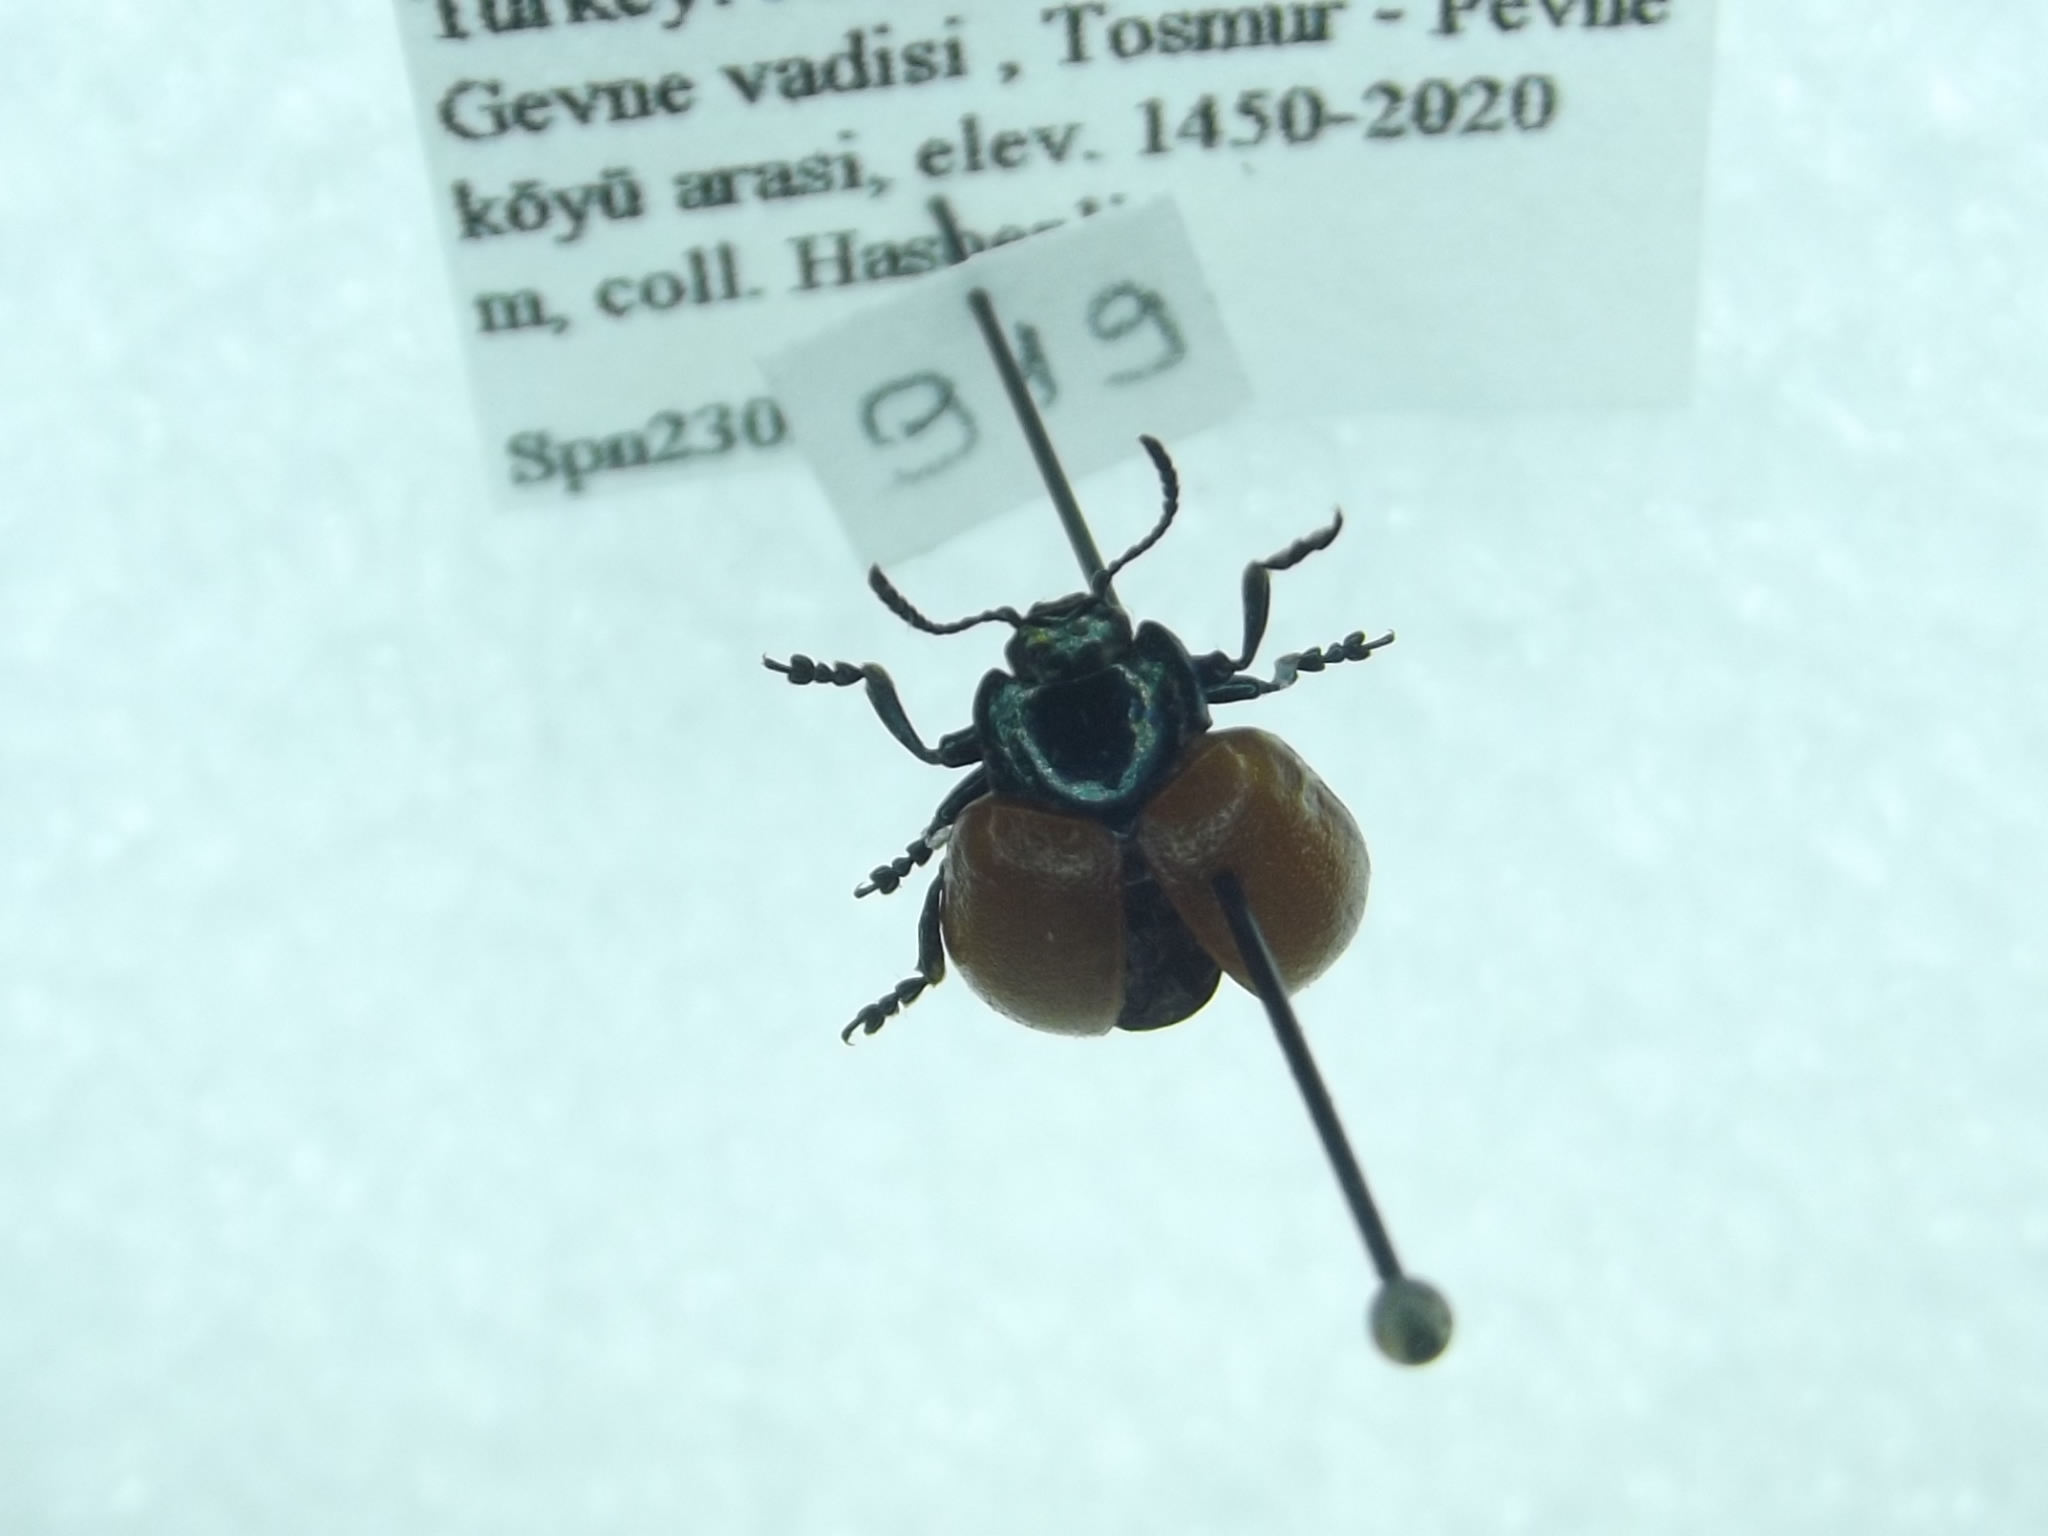Chrysomela_populi: (760, 461, 1413, 1071)
